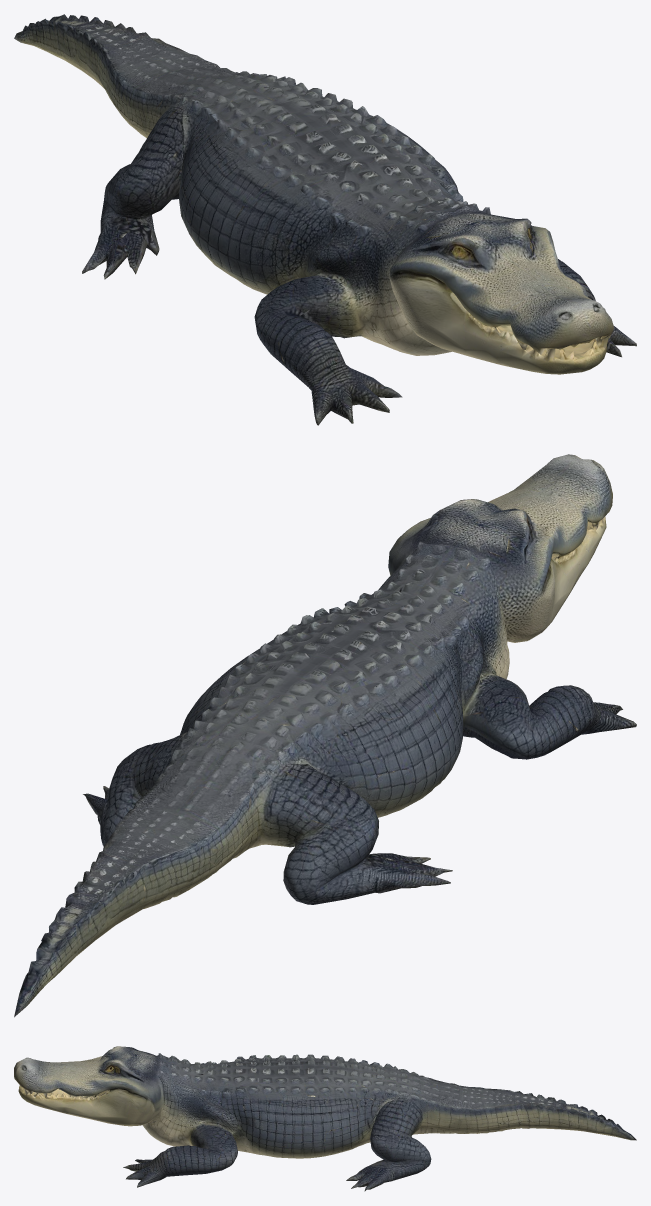
The model's file is krokodil.glb.
3 views of the same model, one above another, from view 1: azimuth 30°, elevation 25°; view 2: azimuth 150°, elevation 25°; view 3: azimuth 270°, elevation 25° (orthographic). The views are drawn at different scales.
Size of the model in its own units: 0.6995 by 0.3108 by 1.9.
Materials: 1 (1 with a texture image).
